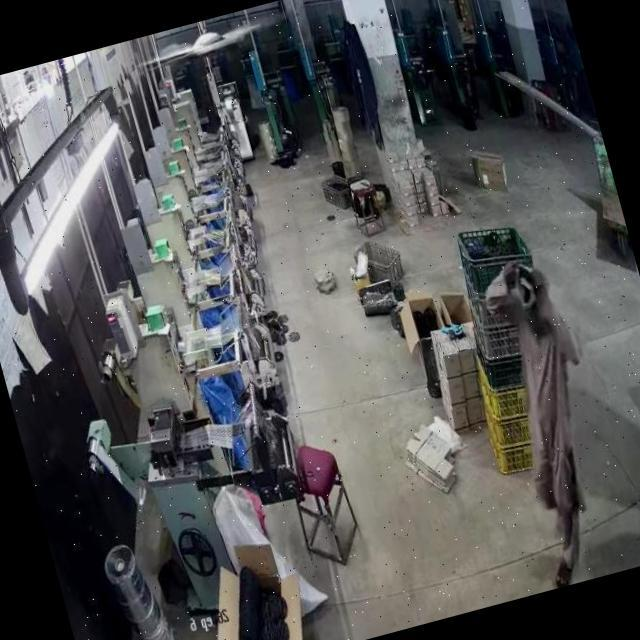person: (475, 264, 634, 588)
